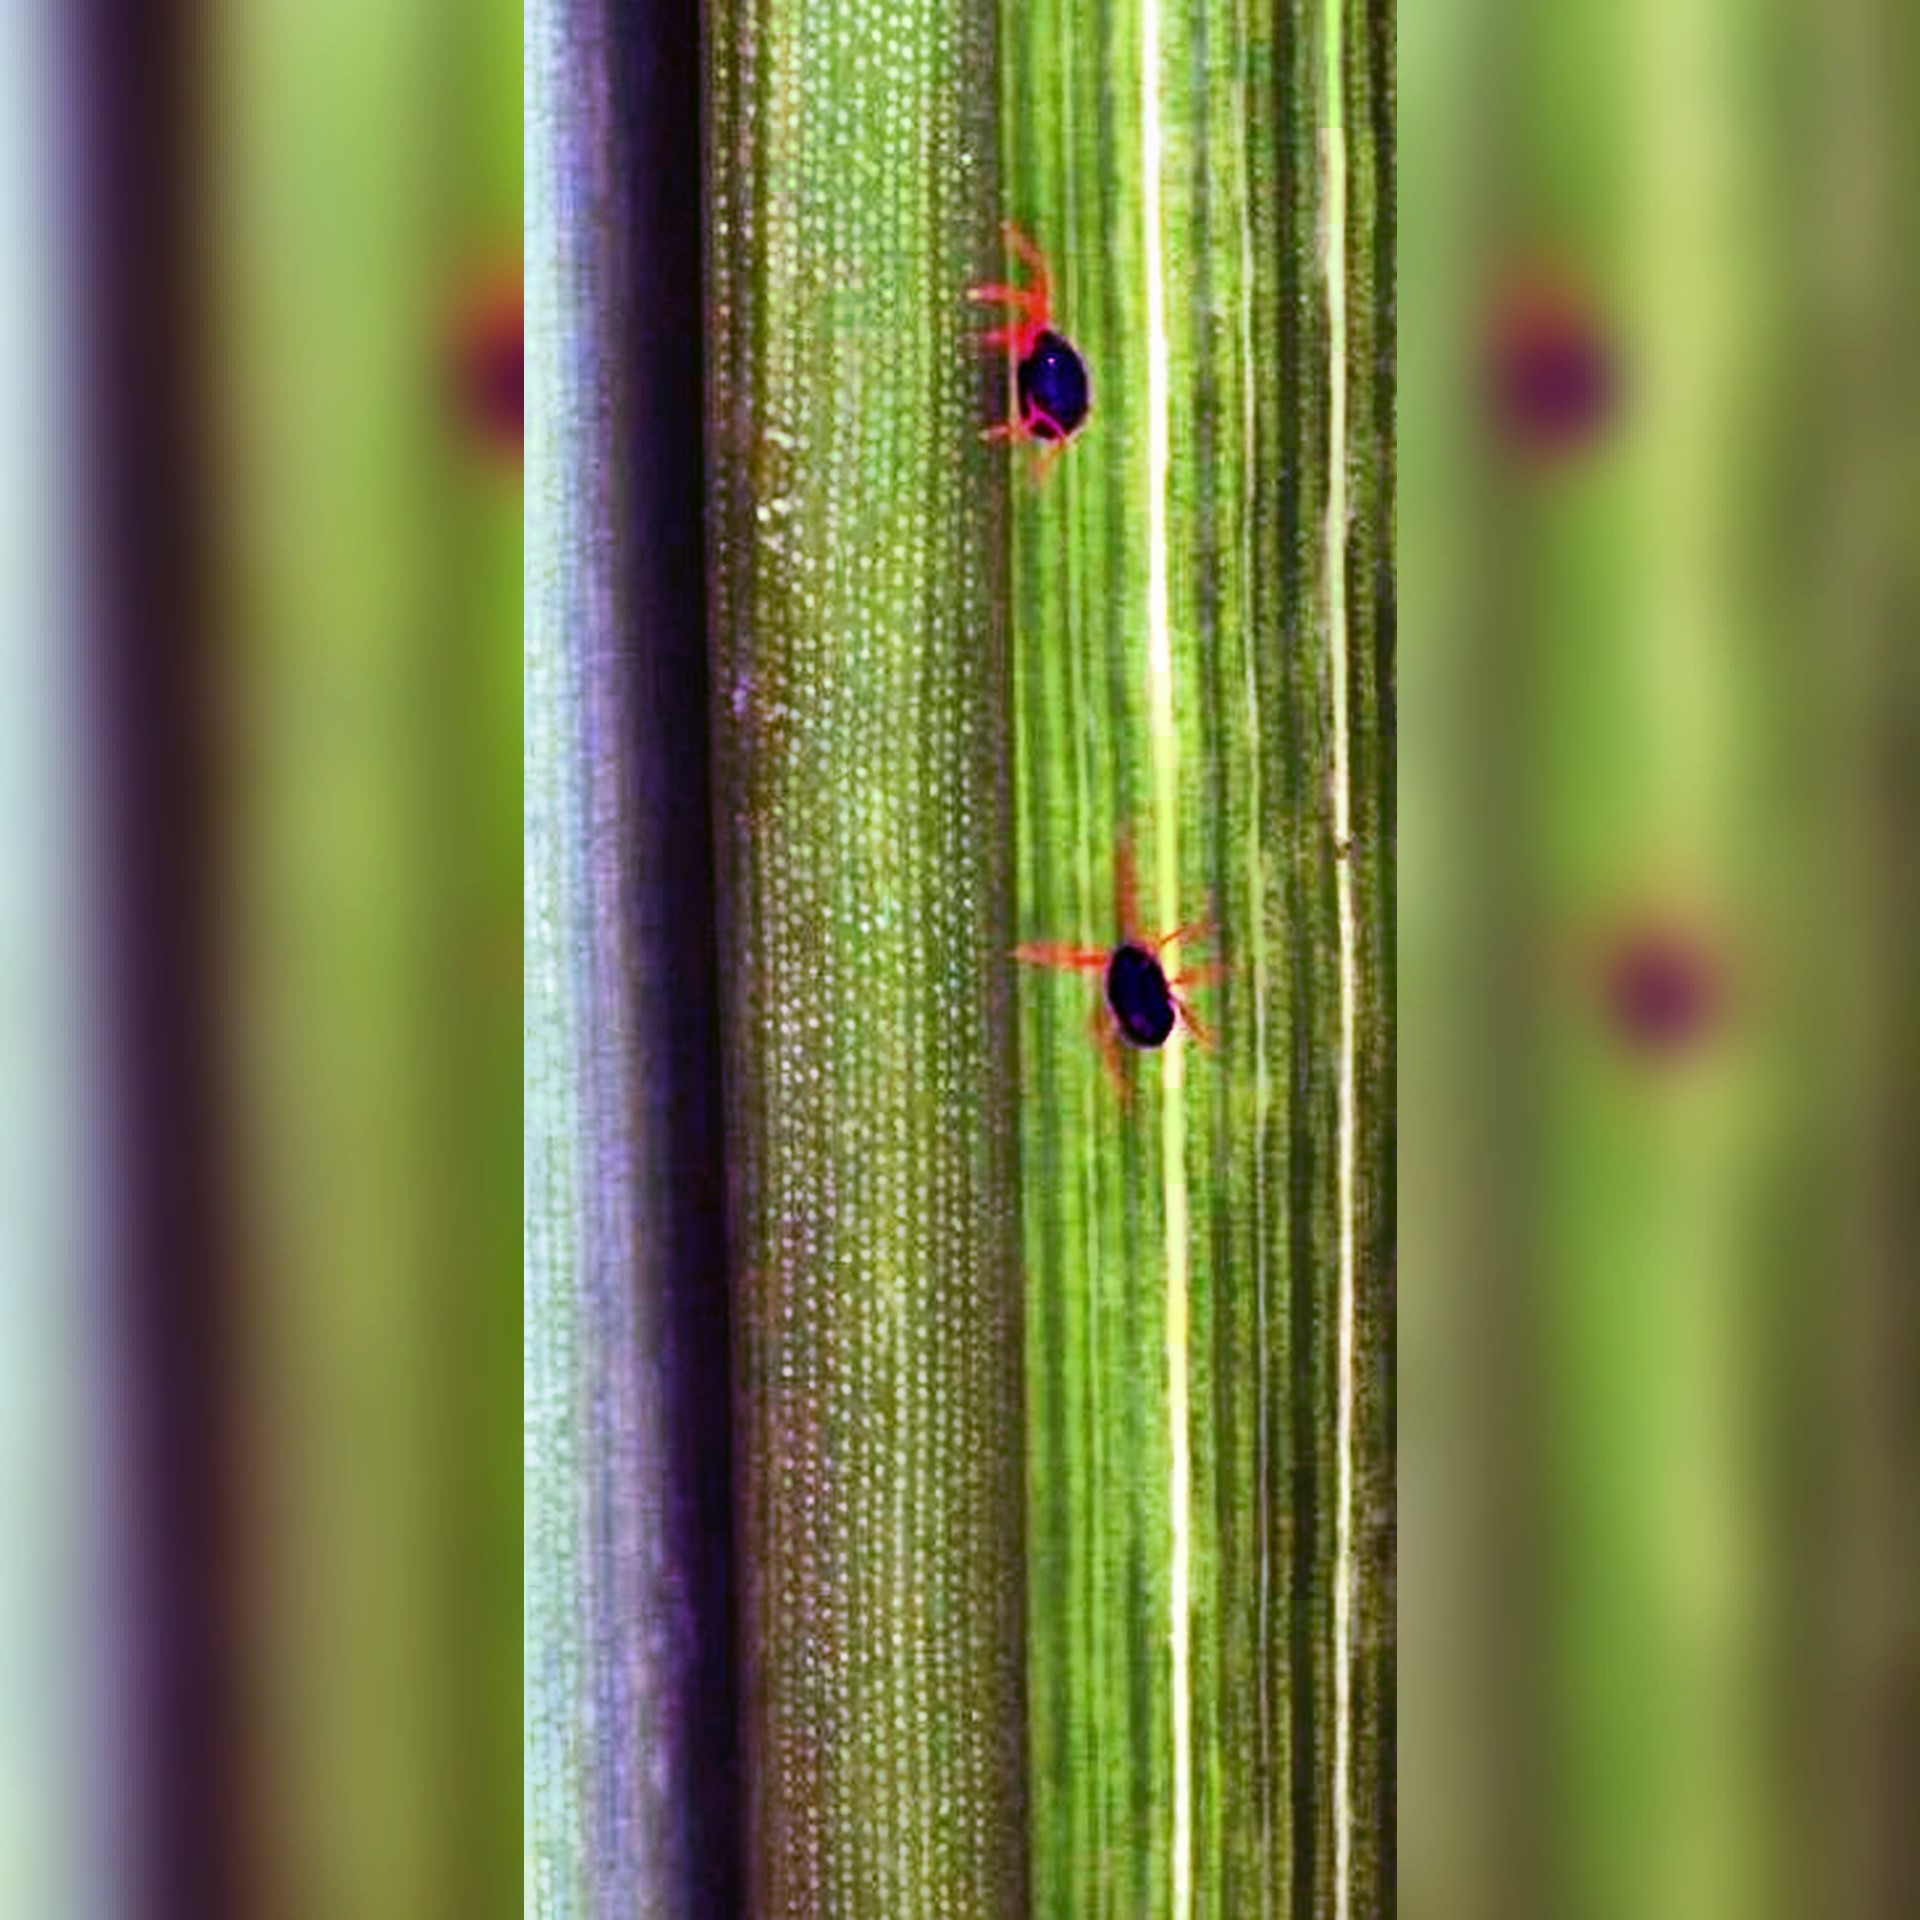Wheat Red Spider: (944, 195, 1129, 503)
